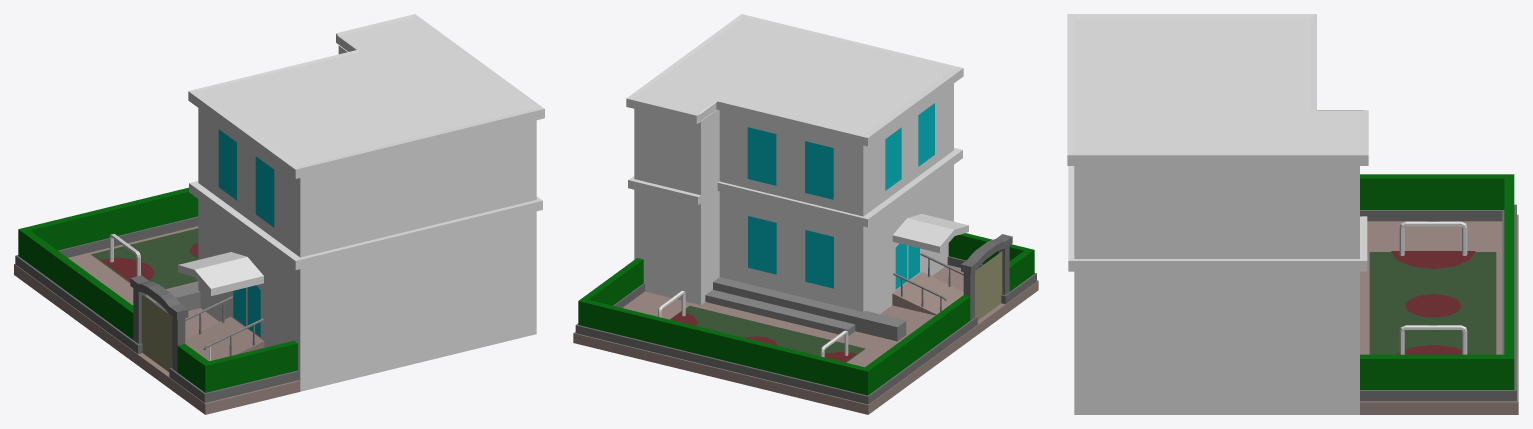
The model's file is Colegio.fbx.
The picture shows the model from 3 angles, left to right: view 1: azimuth 30°, elevation 25°; view 2: azimuth 150°, elevation 25°; view 3: azimuth 270°, elevation 25°; orthographic projection. The views are drawn at different scales.
Parts seen in each view (by area): view 1: Cube, Cube.008, Cube.004, Cube.003, Cube.002, Plane, Cube.007, Plane.015, Cube.009, Cube.012, Plane.016, Cylinder.001 (+1 smaller); view 2: Cube, Cube.008, Cube.004, Cube.003, Cube.002, Cube.001, Cube.010, Cube.006, Plane, Cube.007, Cube.011, Cube.005 (+4 smaller); view 3: Cube, Cube.008, Cube.004, Plane, Cube.003, Cube.002, Cylinder.001, Cylinder.025, Cylinder.027, Cylinder.003, Cylinder.002, Cylinder.
Part boxes in pixels (x1,y1,x2,y2): Cube: [178, 46, 536, 391]; Cube.008: [188, 14, 544, 270]; Cube.004: [18, 187, 297, 392]; Cube.003: [14, 226, 300, 414]; Cube.002: [15, 216, 298, 402]; Plane: [91, 228, 198, 289]; Cube.007: [218, 129, 274, 227]; Plane.015: [141, 295, 158, 364]; Cube.009: [233, 285, 260, 336]; Cube.012: [218, 124, 277, 231]; Plane.016: [158, 307, 172, 371]; Cylinder.001: [100, 257, 154, 281]; Cube: [634, 83, 968, 314]; Cube.008: [626, 14, 963, 227]; Cube.004: [578, 233, 1034, 395]; Cube.003: [573, 265, 1038, 414]; Cube.002: [575, 234, 1036, 404]; Cube.001: [705, 277, 906, 341]; Cube.010: [747, 127, 833, 199]; Cube.006: [748, 216, 833, 288]; Plane: [685, 306, 865, 362]; Cube.007: [885, 103, 934, 190]; Cube.011: [745, 211, 836, 291]; Cube.005: [745, 123, 836, 203]; Cube: [1074, 166, 1359, 414]; Cube.008: [1067, 14, 1368, 271]; Cube.004: [1360, 174, 1514, 389]; Plane: [1369, 252, 1496, 354]; Cube.003: [1360, 214, 1518, 414]; Cube.002: [1360, 204, 1516, 401]; Cylinder.001: [1391, 251, 1475, 268]; Cylinder.025: [1399, 221, 1467, 255]; Cylinder.027: [1399, 325, 1467, 354]; Cylinder.003: [1405, 294, 1461, 305]; Cylinder.002: [1405, 305, 1461, 317]; Cylinder: [1396, 344, 1470, 354].
Size of the model in its own units: 203 by 131 by 203.
